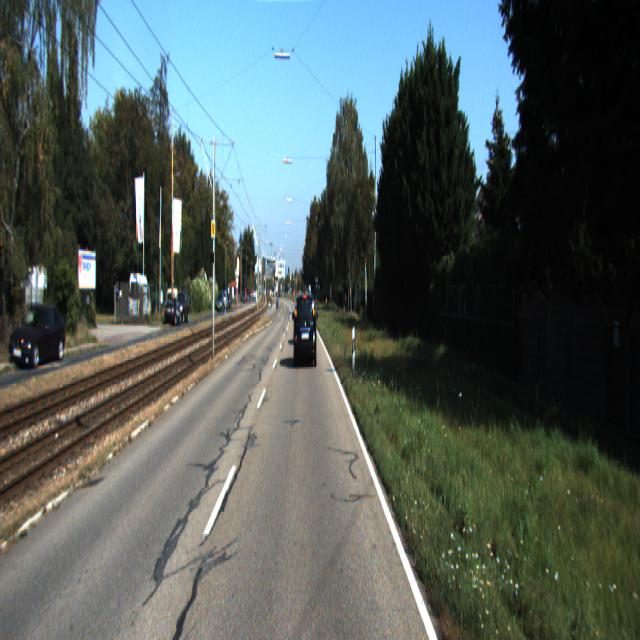Car: (12, 306, 66, 372), (294, 291, 317, 368), (128, 272, 153, 324), (164, 297, 184, 328)
